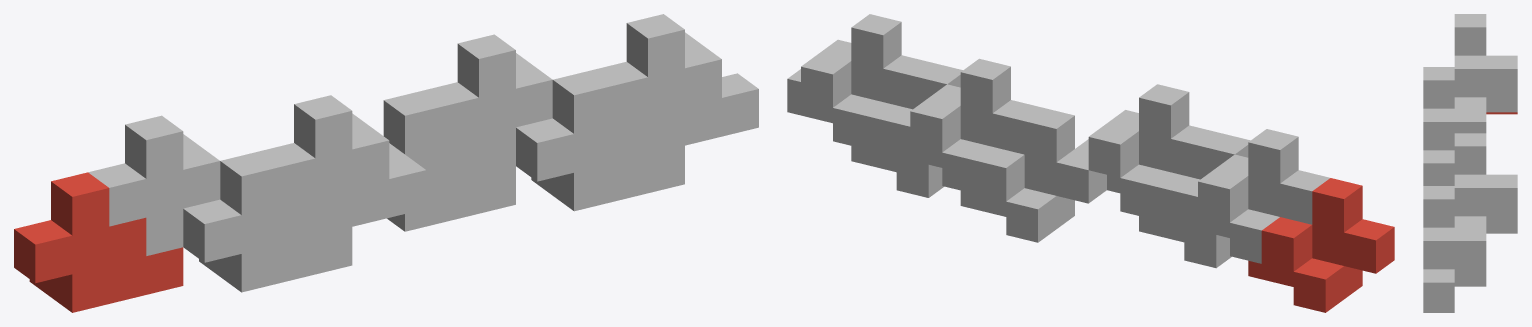
The model's file is tiling.obj.
3 renders of one model, left to right at view 1: azimuth 30°, elevation 25°; view 2: azimuth 150°, elevation 25°; view 3: azimuth 270°, elevation 25°, orthographic. The views are drawn at different scales.
Parts seen in each view (by area): view 1: copy_1_domain_1, copy_1_domain_2, copy_1_domain_6, copy_1_domain_4, copy_1_domain_8, copy_1_domain_3, copy_1_domain_7, copy_1_domain_5; view 2: copy_1_domain_1, copy_1_domain_5, copy_1_domain_7, copy_1_domain_3, copy_1_domain_8, copy_1_domain_4, copy_1_domain_2, copy_1_domain_6; view 3: copy_1_domain_8, copy_1_domain_3, copy_1_domain_7, copy_1_domain_4, copy_1_domain_6, copy_1_domain_1, copy_1_domain_5.
Part boxes in pixels (left/top/right/bottom): copy_1_domain_1: left=14, top=172, right=183, bottom=312; copy_1_domain_2: left=183, top=152, right=352, bottom=292; copy_1_domain_6: left=516, top=70, right=684, bottom=211; copy_1_domain_4: left=257, top=95, right=426, bottom=235; copy_1_domain_8: left=590, top=14, right=758, bottom=154; copy_1_domain_3: left=88, top=115, right=220, bottom=255; copy_1_domain_7: left=421, top=34, right=552, bottom=174; copy_1_domain_5: left=383, top=91, right=515, bottom=231; copy_1_domain_1: left=1248, top=178, right=1394, bottom=312; copy_1_domain_5: left=960, top=107, right=1106, bottom=242; copy_1_domain_7: left=896, top=58, right=1042, bottom=193; copy_1_domain_3: left=1184, top=129, right=1329, bottom=263; copy_1_domain_8: left=787, top=14, right=933, bottom=148; copy_1_domain_4: left=1075, top=84, right=1220, bottom=218; copy_1_domain_2: left=1139, top=133, right=1250, bottom=268; copy_1_domain_6: left=851, top=63, right=962, bottom=197; copy_1_domain_8: left=1423, top=186, right=1486, bottom=310; copy_1_domain_3: left=1454, top=14, right=1517, bottom=112; copy_1_domain_7: left=1454, top=133, right=1517, bottom=231; copy_1_domain_4: left=1423, top=67, right=1486, bottom=185; copy_1_domain_6: left=1423, top=284, right=1486, bottom=312; copy_1_domain_1: left=1486, top=112, right=1517, bottom=114; copy_1_domain_5: left=1486, top=231, right=1517, bottom=233.
Size of the model in its own units: 19 by 4 by 3.
